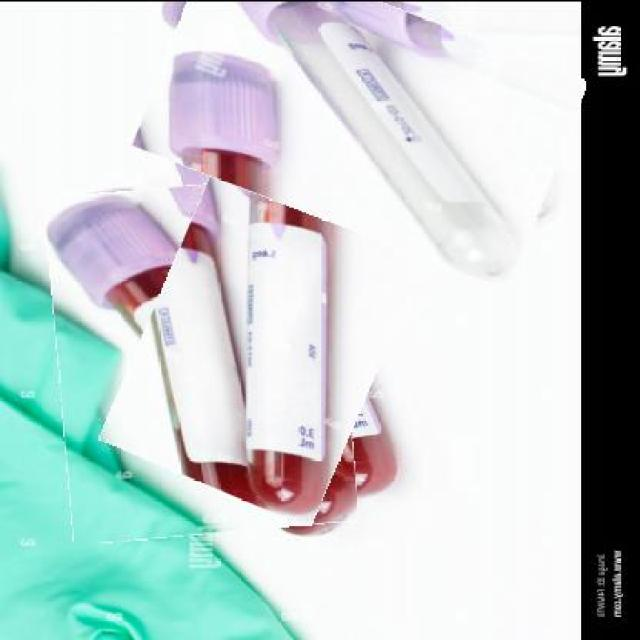Experimental-tube: (133, 88, 430, 512), (145, 2, 577, 255), (51, 178, 352, 538)
